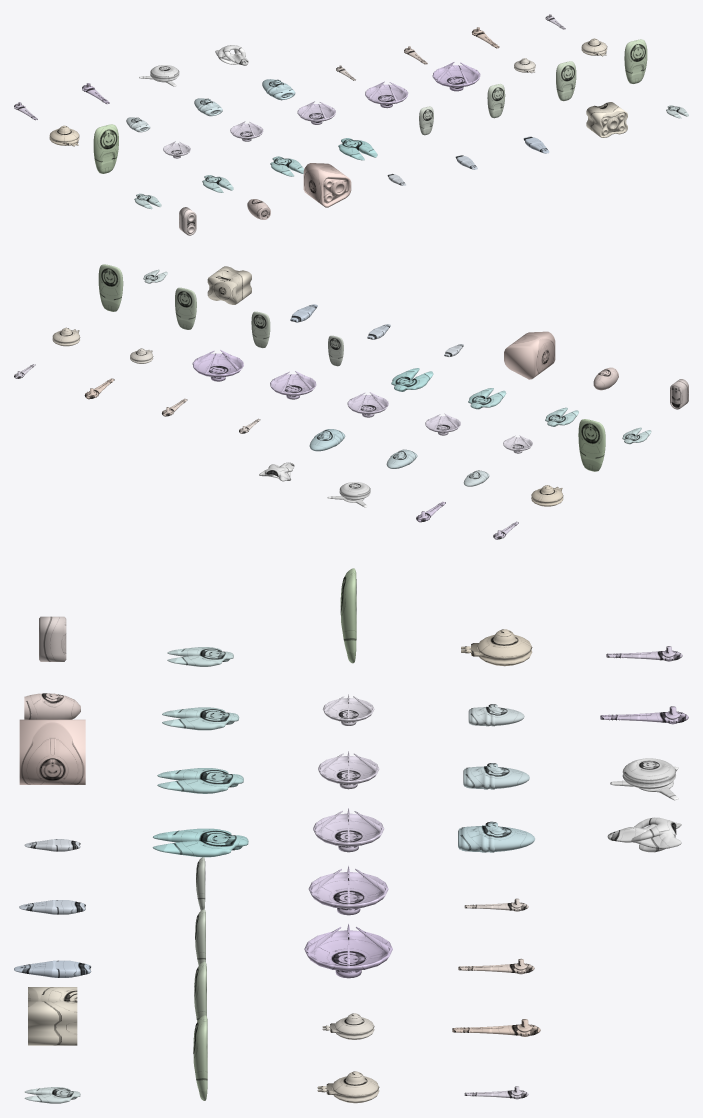
The model's file is device_constructor.glb.
The picture shows the model from 3 angles, top to bottom: view 1: azimuth 30°, elevation 25°; view 2: azimuth 150°, elevation 25°; view 3: azimuth 270°, elevation 25°; orthographic projection. The views are drawn at different scales.
Visible parts, largest first — view 1: 002_ENGINE_3, 006_ENGINE_INERTIA_NEGATOR, 016_SHIELD_TIME_2, 021_SCANNER_5, 015_SHIELD_SMART_2, 020_SCANNER_4, 014_SHIELD_TIME_1, 019_SCANNER_3, 011_GENERATOR_5, 013_SHIELD_SMART_1, 027_WEAPON_PHAZER_BEAM_3, 034_AUX_COLONY_BASE (+10 smaller); view 2: 002_ENGINE_3, 006_ENGINE_INERTIA_NEGATOR, 016_SHIELD_TIME_2, 021_SCANNER_5, 015_SHIELD_SMART_2, 020_SCANNER_4, 014_SHIELD_TIME_1, 019_SCANNER_3, 011_GENERATOR_5, 034_AUX_COLONY_BASE, 013_SHIELD_SMART_1, 027_WEAPON_PHAZER_BEAM_3 (+8 smaller); view 3: 002_ENGINE_3, 021_SCANNER_5, 006_ENGINE_INERTIA_NEGATOR, 020_SCANNER_4, 011_GENERATOR_5, 019_SCANNER_3, 027_WEAPON_PHAZER_BEAM_3, 010_GENERATOR_4, 024_WEAPON_LAZER_BEAM_3, 034_AUX_COLONY_BASE, 035_AUX_INVASION_MODULE, 018_SCANNER_2 (+12 smaller).
Part boxes in pixels (x1,y1,x2,y2): 002_ENGINE_3: (303,163,351,207); 006_ENGINE_INERTIA_NEGATOR: (586,102,627,137); 016_SHIELD_TIME_2: (93,124,118,173); 021_SCANNER_5: (432,62,480,91); 015_SHIELD_SMART_2: (624,39,647,83); 020_SCANNER_4: (365,81,408,108); 014_SHIELD_TIME_1: (556,61,576,101); 019_SCANNER_3: (297,101,335,124); 011_GENERATOR_5: (338,138,377,160); 013_SHIELD_SMART_1: (487,84,505,118); 027_WEAPON_PHAZER_BEAM_3: (262,79,295,100); 034_AUX_COLONY_BASE: (139,65,179,86); 002_ENGINE_3: (504,331,555,379); 006_ENGINE_INERTIA_NEGATOR: (207,266,251,304); 016_SHIELD_TIME_2: (578,419,605,471); 021_SCANNER_5: (192,350,243,381); 015_SHIELD_SMART_2: (98,264,123,311); 020_SCANNER_4: (270,371,316,399); 014_SHIELD_TIME_1: (175,287,196,329); 019_SCANNER_3: (347,392,388,417); 011_GENERATOR_5: (391,368,433,391); 034_AUX_COLONY_BASE: (327,482,370,507); 013_SHIELD_SMART_1: (251,311,270,348); 027_WEAPON_PHAZER_BEAM_3: (309,429,345,451); 002_ENGINE_3: (19,719,85,784); 021_SCANNER_5: (304,923,392,978); 006_ENGINE_INERTIA_NEGATOR: (28,987,77,1045); 020_SCANNER_4: (308,865,388,915); 011_GENERATOR_5: (152,828,248,857); 019_SCANNER_3: (313,808,384,852); 027_WEAPON_PHAZER_BEAM_3: (458,821,534,852); 010_GENERATOR_4: (157,768,243,793); 024_WEAPON_LAZER_BEAM_3: (461,629,532,666); 034_AUX_COLONY_BASE: (610,758,678,800); 035_AUX_INVASION_MODULE: (607,817,681,852); 018_SCANNER_2: (318,751,379,789).
Size of the model in its own units: 22.05 by 1.94 by 13.68.
Materials: 35 (35 with a texture image).
